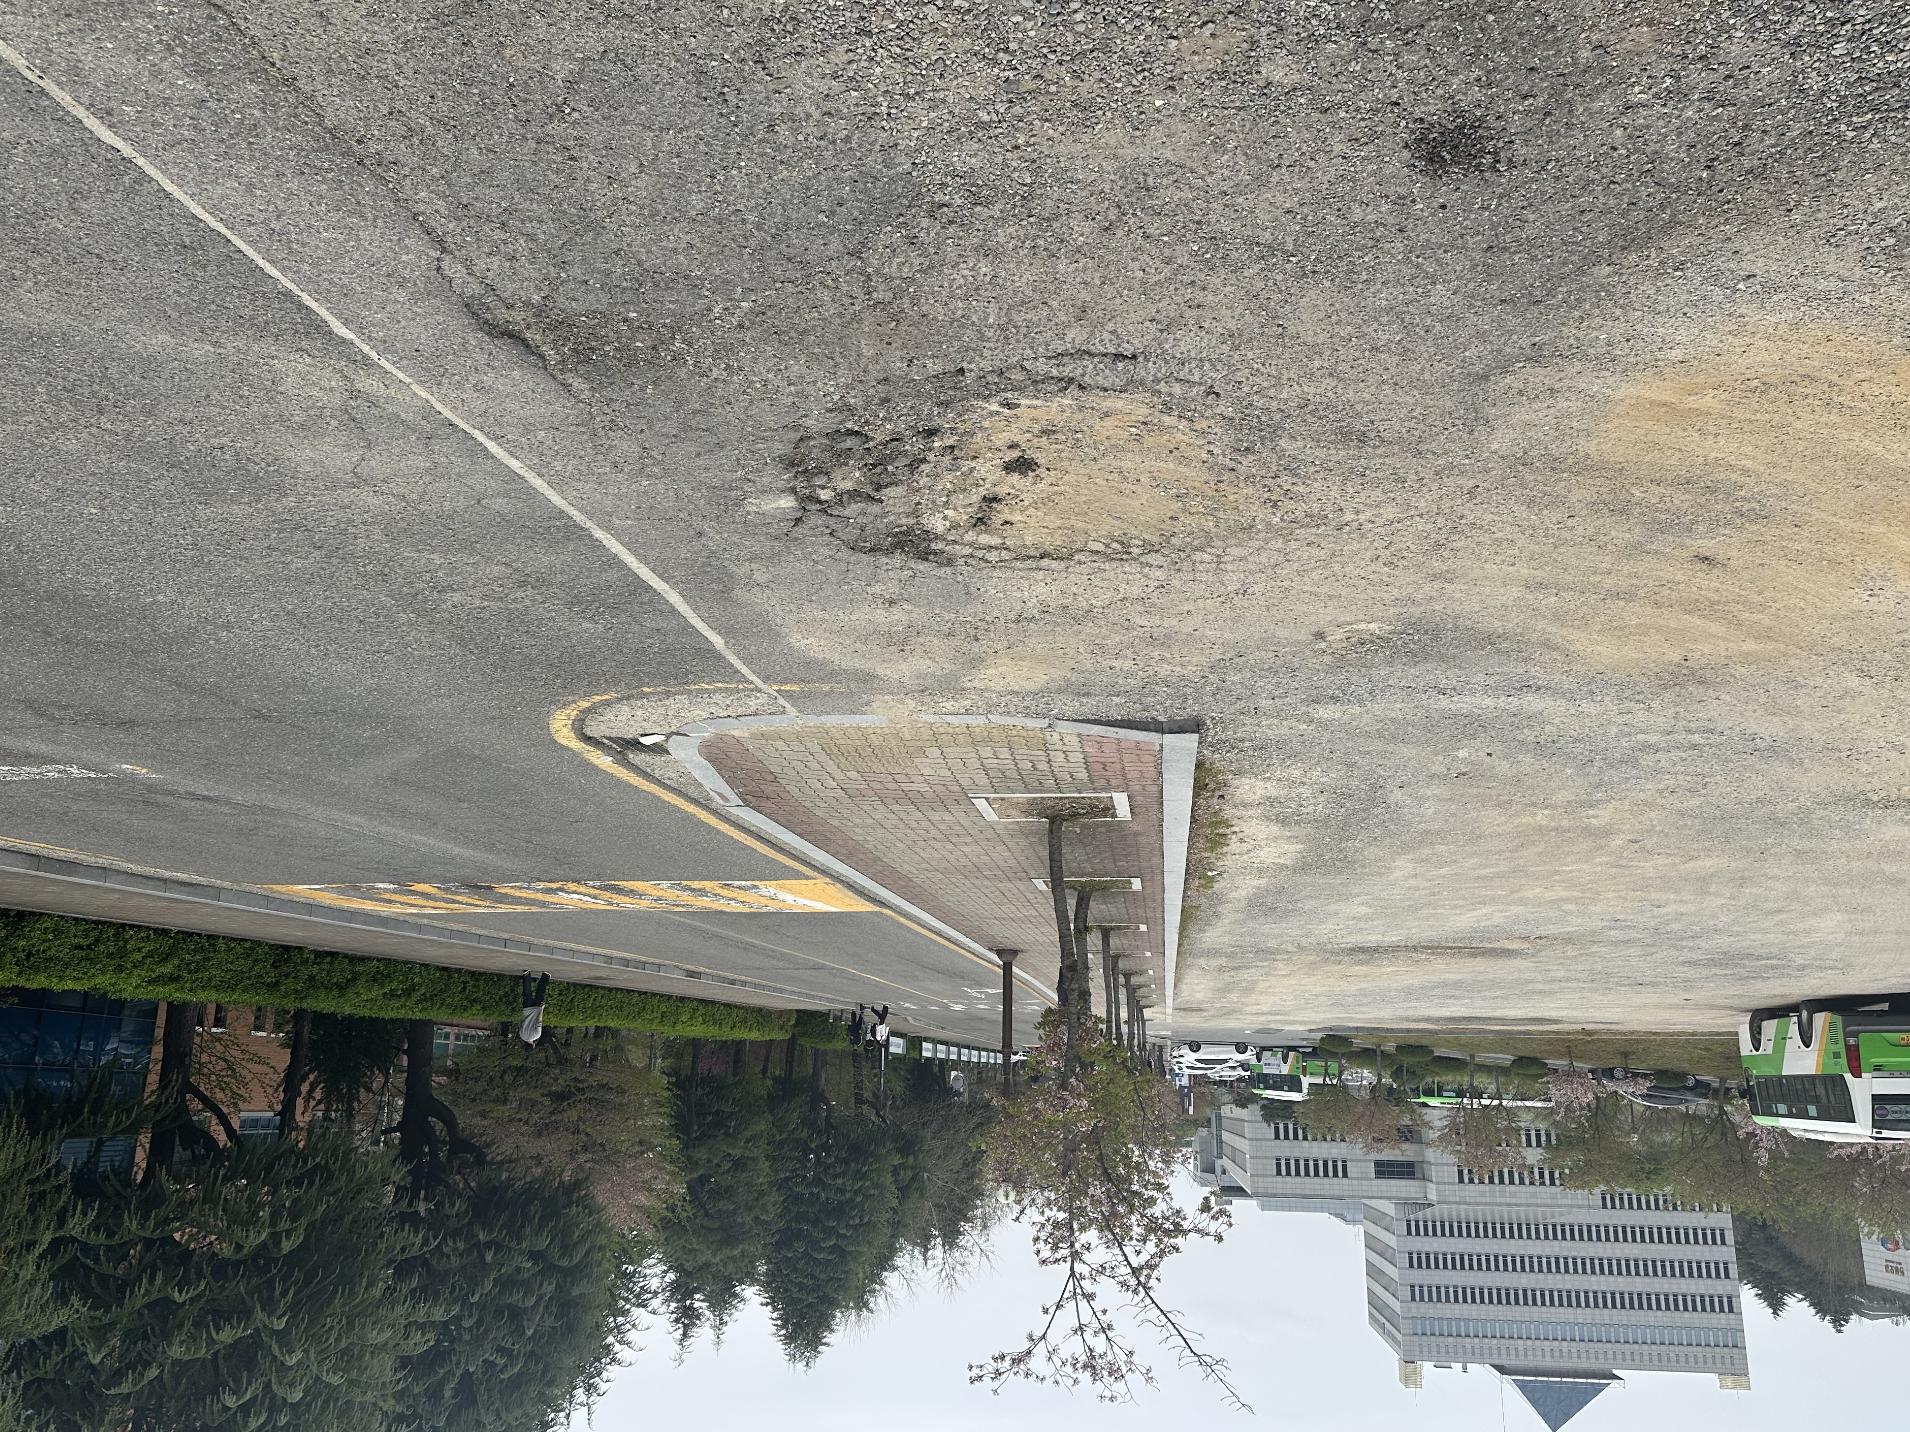pothole: (788, 344, 1272, 623)
